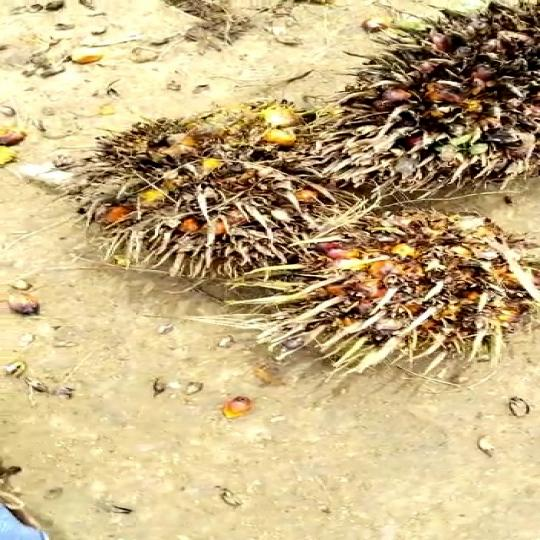terlalu masak: (56, 107, 388, 294), (255, 216, 540, 367)
